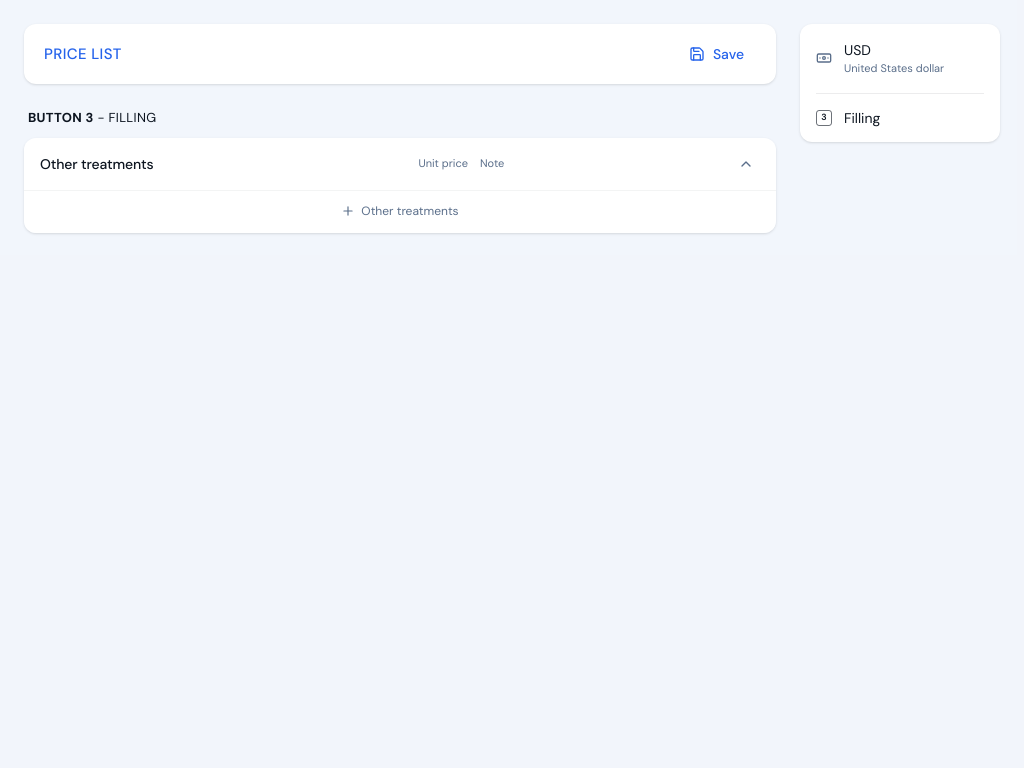
Test case: saves only currency settings, removes the language selector and restores the saved currency
Click the button with aria-label "Currency" at [900, 58], box x1=808 y1=32 x2=992 y2=84
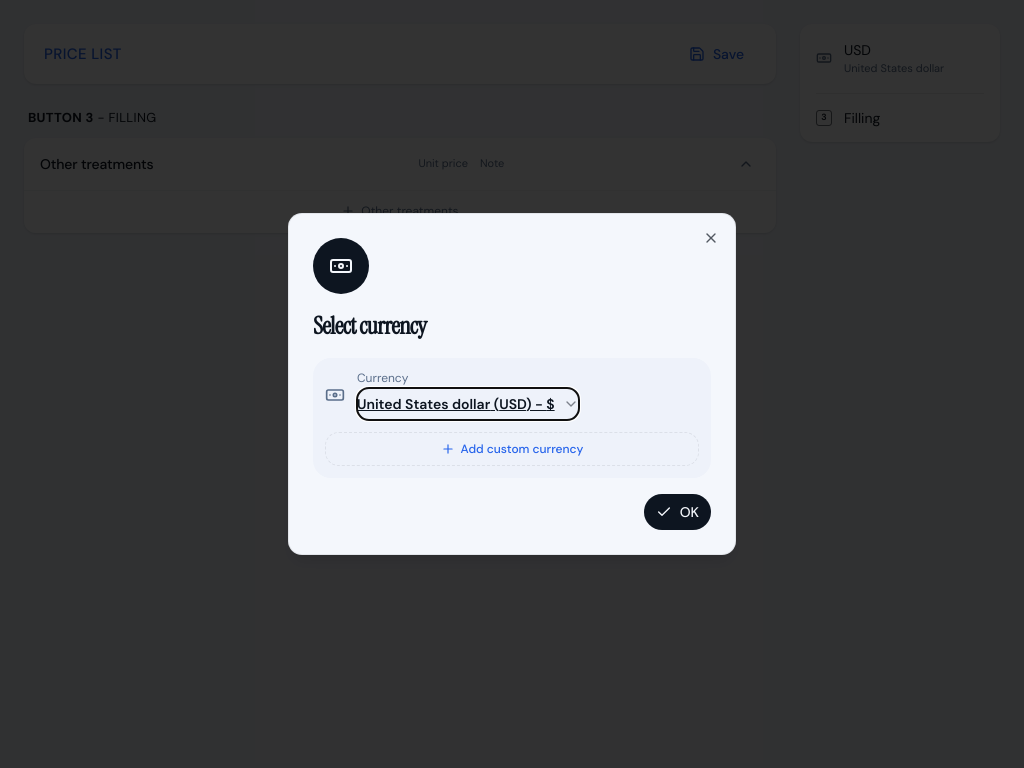
expect the number of dropdowns is 1: met
Press ArrowDown in the dropdown, box x1=357 y1=388 x2=579 y2=420
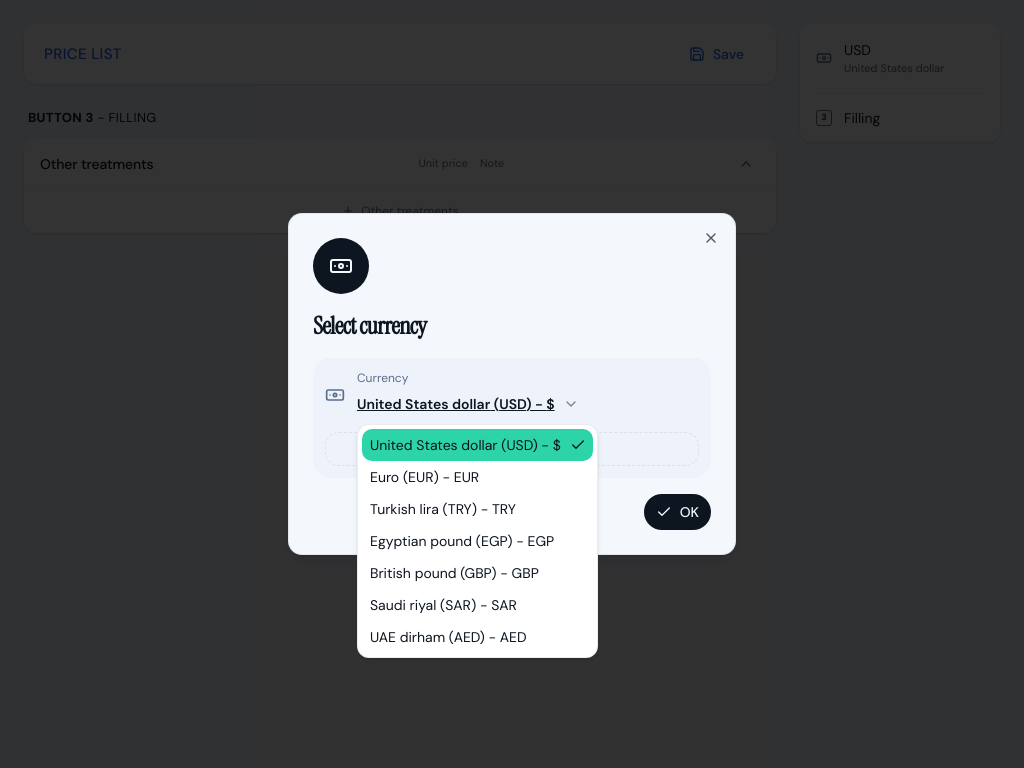
Click the option "Euro (EUR) - EUR" at [425, 477], box x1=370 y1=468 x2=479 y2=486
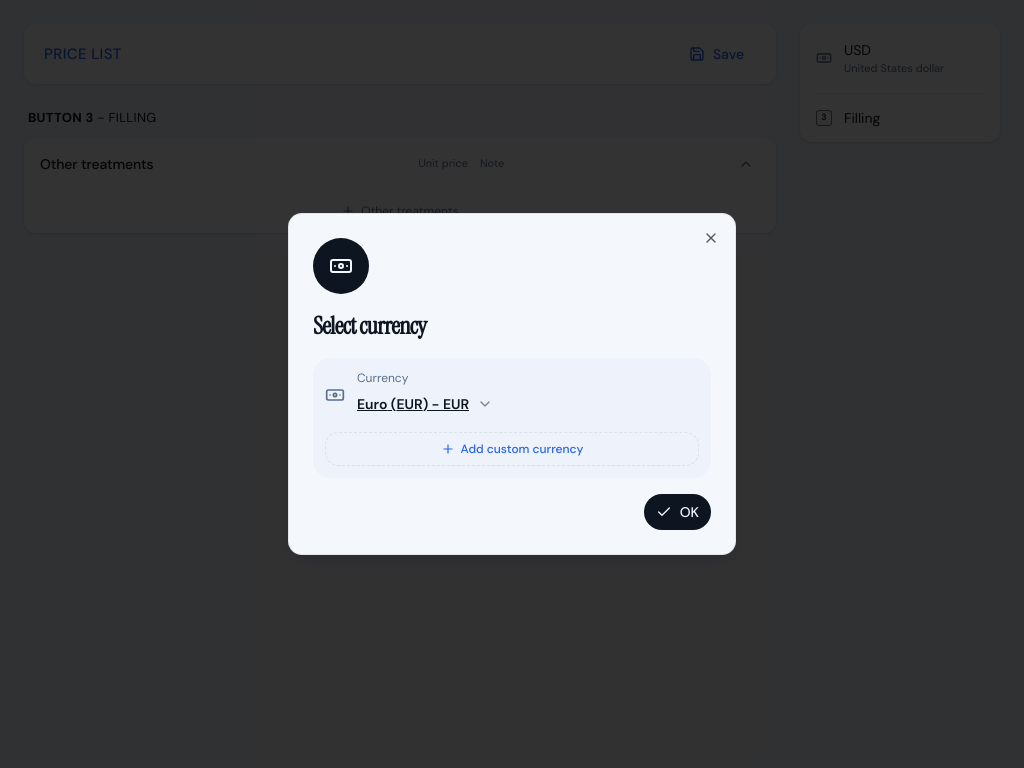
Click the button "OK" at [677, 512], box x1=644 y1=494 x2=711 y2=530
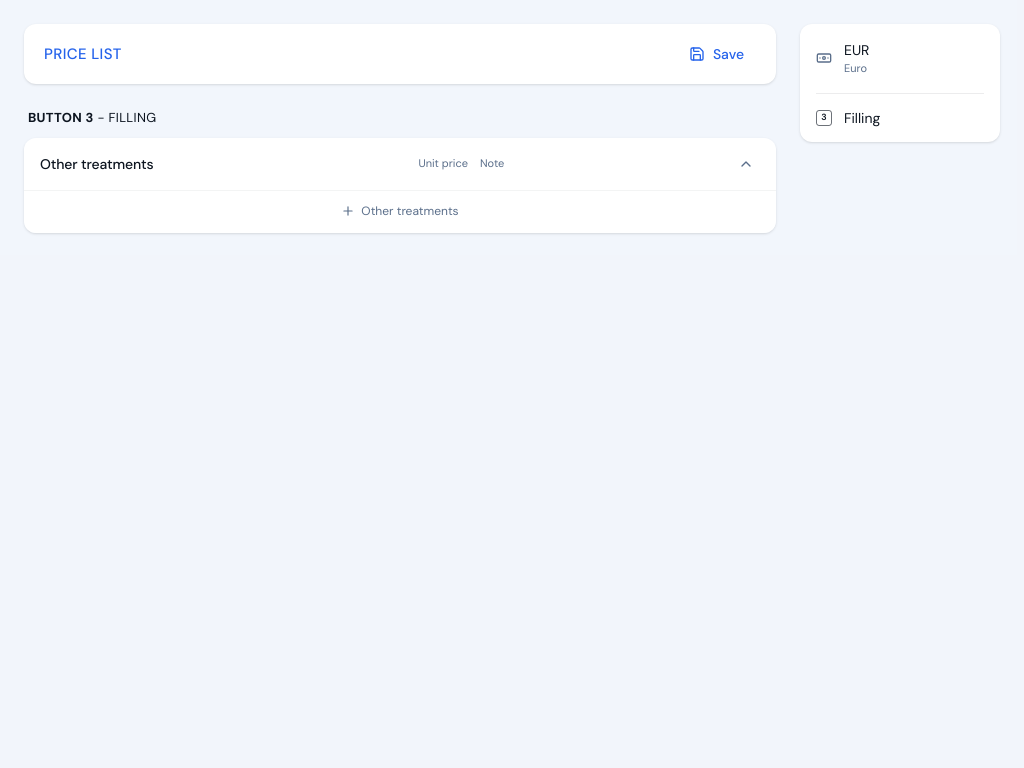
expect the dialog is gone: met
expect the button with aria-label "Currency" reads "EUR Euro": met
Click the button with aria-label "Currency" at [900, 58], box x1=808 y1=32 x2=992 y2=84
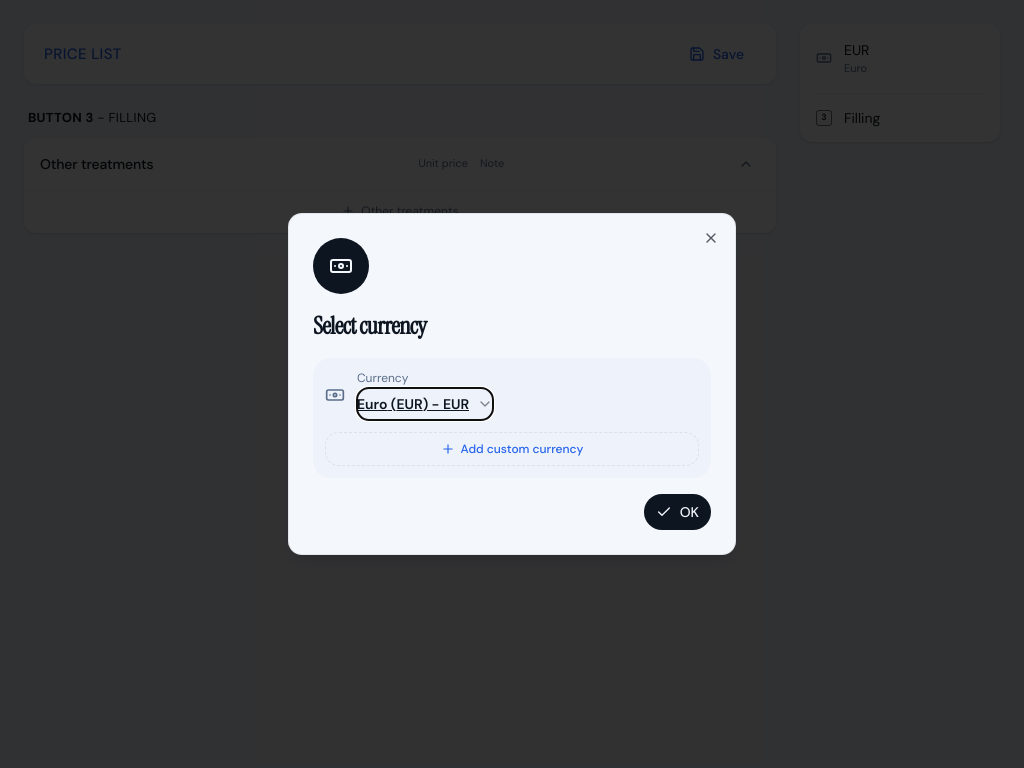
expect the dropdown shows "Euro (EUR)": met, box x1=357 y1=388 x2=493 y2=420
